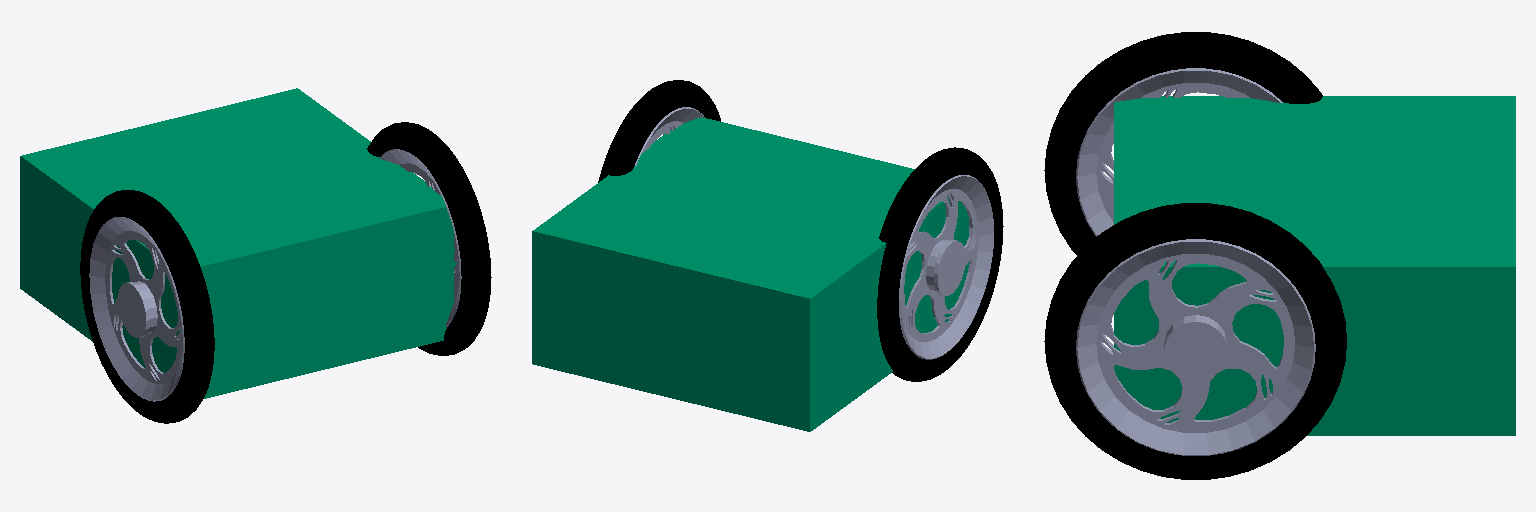
robot.urdf — Krang:
<?xml version="1.0" ?>
<!-- @file Krang.urdf -->
<!-- @author Can Erdogan -->
<!-- @date May 19, 2013 -->
<!-- @brief This file contains the .urdf definition for Krang with no dae files but only -->
<!-- bounding boxes for the dae files except the wheels (for fast loading in 05-fr). -->
<!-- TODO: Set the center of mass locations -->
<!-- TODO: Set the correct masses. Note that the dae models have the brackets divided in two and -->
<!-- connected to the middle motor for which we do not have measurements. -->
<!-- NOTE: The bounding box values are taken by finding the min and max values of the dae files. -->

<robot name="Krang">

	<!-- Links -->

	<link name = "LWheel"> 
    <inertial>
      <mass value="4.66"/>
      <inertia ixx="0.102019" ixy="2.45462e-05" ixz="0.00713022" iyy="0.0832724" iyz="-0.00131733" izz="0.086493"/>
      <origin xyz="0 0 0"/>
    </inertial>
		<visual> <geometry> <mesh filename="Base/oldwheel.dae" /> </geometry> </visual> 
		<collision> <geometry> <mesh filename="Base/oldwheel.dae" /> </geometry> </collision> 
	</link>

	<link name = "RWheel"> 
    <inertial>
      <mass value="4.66"/>
      <inertia ixx="0.102019" ixy="2.45462e-05" ixz="0.00713022" iyy="0.0832724" iyz="-0.00131733" izz="0.086493"/>
      <origin xyz="0 0 0"/>
    </inertial>
		<visual> <geometry> <mesh filename="Base/oldwheel.dae" /> </geometry> </visual> 
		<collision> <geometry> <mesh filename="Base/oldwheel.dae" /> </geometry> </collision> 
	</link>

	<link name = "Base"> 
    <inertial>
      <mass value="86.5"/>
      <inertia ixx="0.102019" ixy="2.45462e-05" ixz="0.00713022" iyy="0.0832724" iyz="-0.00131733" izz="0.086493"/>
      <origin xyz="0 0 0"/>
    </inertial>
		<visual> 
			<origin xyz="0.00225 0.2097395 0.006300"/>
      <geometry>
        <box size="0.7165 0.71048 0.32860"/>
      </geometry>
		</visual> 
		<collision> 
			<origin xyz="0.00225 0.2097395 0.006300"/>
      <geometry>
        <box size="0.7165 0.71048 0.32860"/>
      </geometry>
		</collision> 
	</link>
<!--
	<link name = "Spine"> 
    <inertial>
      <mass value="6.547"/>
      <inertia ixx="0.102019" ixy="2.45462e-05" ixz="0.00713022" iyy="0.0832724" iyz="-0.00131733" izz="0.086493"/>
      <origin xyz="0 0 0"/>
    </inertial>
		<visual> 
			<origin xyz="-0.026 0.230150 0.053887"/>
      <geometry>
        <box size="0.2340 0.59430 0.24097"/>
      </geometry>
		</visual> 
		<collision> 
			<origin xyz="-0.026 0.230150 0.053887"/>
      <geometry>
        <box size="0.2340 0.59430 0.24097"/>
      </geometry>
		</collision> 
	</link>

	<link name = "Bracket"> 
    <inertial>
      <mass value="3.11"/>
      <inertia ixx="0.102019" ixy="2.45462e-05" ixz="0.00713022" iyy="0.0832724" iyz="-0.00131733" izz="0.086493"/>
      <origin xyz="0 0 0"/>
    </inertial>
		<visual> <origin xyz="0.0012875 0.0971525 -0.0280530"/> <geometry> <box size="0.2815 0.30791 0.22611"/> </geometry> </visual> 
		<collision> <origin xyz="0.0012875 0.0971525 -0.0280530"/> <geometry> <box size="0.2815 0.30791 0.22611"/> </geometry> </collision> 
	</link>

	<link name = "L1"> 
    <inertial>
      <mass value="3.28"/>
      <inertia ixx="0.102019" ixy="2.45462e-05" ixz="0.00713022" iyy="0.0832724" iyz="-0.00131733" izz="0.086493"/>
      <origin xyz="0 0 0"/>
    </inertial>
		<visual> <origin xyz="0.015 -0.080866 0.0"/> <geometry> <box size="0.16 0.29367 0.13188"/> </geometry> </visual> 
		<collision> <origin xyz="0.015 -0.080866 0.0"/> <geometry> <box size="0.16 0.29367 0.13188"/> </geometry> </collision> 
	</link>

	<link name = "L2"> 
    <inertial>
      <mass value="3.76"/>
      <inertia ixx="0.102019" ixy="2.45462e-05" ixz="0.00713022" iyy="0.0832724" iyz="-0.00131733" izz="0.086493"/>
      <origin xyz="0 0 0"/>
    </inertial>
		<visual> <origin xyz="0.017042 -0.058309 0.0"/> <geometry> <box size="0.14591 0.24658 0.13"/> </geometry> </visual> 
		<collision> <origin xyz="0.017042 -0.058309 0.0"/> <geometry> <box size="0.14591 0.24658 0.13"/> </geometry> </collision> 
	</link>

	<link name = "L3"> 
    <inertial>
      <mass value="2.435"/>
      <inertia ixx="0.102019" ixy="2.45462e-05" ixz="0.00713022" iyy="0.0832724" iyz="-0.00131733" izz="0.086493"/>
      <origin xyz="0 0 0"/>
    </inertial>
		<visual> <origin xyz="0.014000 -0.075113 0.0"/> <geometry> <box size="0.13800 0.26217 0.11189"/> </geometry> </visual> 
		<collision> <origin xyz="0.014000 -0.075113 0.0"/> <geometry> <box size="0.13800 0.26217 0.11189"/> </geometry> </collision> 
	</link>

	<link name = "L4"> 
    <inertial>
      <mass value="2.356"/>
      <inertia ixx="0.102019" ixy="2.45462e-05" ixz="0.00713022" iyy="0.0832724" iyz="-0.00131733" izz="0.086493"/>
      <origin xyz="0 0 0"/>
    </inertial>
		<visual> <origin xyz="0.018200 -0.052050 0.0"/> <geometry> <box size="0.12960 0.2141 0.11"/> </geometry> </visual> 
		<collision> <origin xyz="0.018200 -0.052050 0.0"/> <geometry> <box size="0.12960 0.2141 0.11"/> </geometry> </collision> 
	</link>

	<link name = "L5"> 
    <inertial>
      <mass value="1.517"/>
      <inertia ixx="0.102019" ixy="2.45462e-05" ixz="0.00713022" iyy="0.0832724" iyz="-0.00131733" izz="0.086493"/>
      <origin xyz="0 0 0"/>
    </inertial>
		<visual> <origin xyz="0.0145115 -0.0571105 0.0000425"/> <geometry> <box size="0.117977 0.204179 0.089915"/> </geometry> </visual> 
		<collision> <origin xyz="0.0145115 -0.0571105 0.0000425"/> <geometry> <box size="0.117977 0.204179 0.089915"/> </geometry> </collision> 
	</link>

	<link name = "L6"> 
    <inertial>
      <mass value="1.428"/>
      <inertia ixx="0.102019" ixy="2.45462e-05" ixz="0.00713022" iyy="0.0832724" iyz="-0.00131733" izz="0.086493"/>
      <origin xyz="0 0 0"/>
    </inertial>
		<visual> <origin xyz="0.0175015 -0.0481615 0.0"/> <geometry> <box size="0.111977 0.185277 0.089"/> </geometry> </visual> 
		<collision> <origin xyz="0.0175015 -0.0481615 0.0"/> <geometry> <box size="0.111977 0.185277 0.089"/> </geometry> </collision> 
	</link>

	<link name = "LFT"> 
    <inertial>
      <mass value="1.206"/>
      <inertia ixx="0.102019" ixy="2.45462e-05" ixz="0.00713022" iyy="0.0832724" iyz="-0.00131733" izz="0.086493"/>
      <origin xyz="0 0 0"/>
    </inertial>
		<visual> <origin xyz="0.0 0.0111 0.0"/> <geometry> <box size="0.075 0.0462 0.075"/> </geometry> </visual> 
		<collision> <origin xyz="0.0 0.0111 0.0"/> <geometry> <box size="0.075 0.0462 0.075"/> </geometry> </collision> 
	</link>

	<link name = "lGripper">
		<visual> <origin xyz="0.0 0.0 0.0"/> <geometry> <box size="0.0616 0.0555 0.044"/> </geometry> </visual> 
		<collision> <origin xyz="0.0 0.0 0.0"/> <geometry> <box size="0.0616 0.0555 0.044"/> </geometry> </collision> 
	</link> 	

	<link name = "lgPlate1">
		<visual> <geometry> <mesh filename="Schunk/gripperPlate.dae" /> </geometry> </visual>
		<collision> <geometry> <mesh filename="Schunk/gripperPlate.dae" /> </geometry> </collision>
	</link> 	

	<link name = "R1"> 
    <inertial>
      <mass value="3.28"/>
      <inertia ixx="0.102019" ixy="2.45462e-05" ixz="0.00713022" iyy="0.0832724" iyz="-0.00131733" izz="0.086493"/>
      <origin xyz="0 0 0"/>
    </inertial>
		<visual> <origin xyz="0.015 -0.080866 0.0"/> <geometry> <box size="0.16 0.29367 0.13188"/> </geometry> </visual> 
		<collision> <origin xyz="0.015 -0.080866 0.0"/> <geometry> <box size="0.16 0.29367 0.13188"/> </geometry> </collision> 
	</link>

	<link name = "R2"> 
    <inertial>
      <mass value="3.76"/>
      <inertia ixx="0.102019" ixy="2.45462e-05" ixz="0.00713022" iyy="0.0832724" iyz="-0.00131733" izz="0.086493"/>
      <origin xyz="0 0 0"/>
    </inertial>
		<visual> <origin xyz="0.017042 -0.058309 0.0"/> <geometry> <box size="0.14591 0.24658 0.13"/> </geometry> </visual> 
		<collision> <origin xyz="0.017042 -0.058309 0.0"/> <geometry> <box size="0.14591 0.24658 0.13"/> </geometry> </collision> 
	</link>

	<link name = "R3"> 
    <inertial>
      <mass value="2.435"/>
      <inertia ixx="0.102019" ixy="2.45462e-05" ixz="0.00713022" iyy="0.0832724" iyz="-0.00131733" izz="0.086493"/>
      <origin xyz="0 0 0"/>
    </inertial>
		<visual> <origin xyz="0.014000 -0.075113 0.0"/> <geometry> <box size="0.13800 0.26217 0.11189"/> </geometry> </visual> 
		<collision> <origin xyz="0.014000 -0.075113 0.0"/> <geometry> <box size="0.13800 0.26217 0.11189"/> </geometry> </collision> 
	</link>

	<link name = "R4"> 
    <inertial>
      <mass value="2.356"/>
      <inertia ixx="0.102019" ixy="2.45462e-05" ixz="0.00713022" iyy="0.0832724" iyz="-0.00131733" izz="0.086493"/>
      <origin xyz="0 0 0"/>
    </inertial>
		<visual> <origin xyz="0.018200 -0.052050 0.0"/> <geometry> <box size="0.12960 0.2141 0.11"/> </geometry> </visual> 
		<collision> <origin xyz="0.018200 -0.052050 0.0"/> <geometry> <box size="0.12960 0.2141 0.11"/> </geometry> </collision> 
	</link>

	<link name = "R5"> 
    <inertial>
      <mass value="1.517"/>
      <inertia ixx="0.102019" ixy="2.45462e-05" ixz="0.00713022" iyy="0.0832724" iyz="-0.00131733" izz="0.086493"/>
      <origin xyz="0 0 0"/>
    </inertial>
		<visual> <origin xyz="0.0145115 -0.0571105 0.0000425"/> <geometry> <box size="0.117977 0.204179 0.089915"/> </geometry> </visual> 
		<collision> <origin xyz="0.0145115 -0.0571105 0.0000425"/> <geometry> <box size="0.117977 0.204179 0.089915"/> </geometry> </collision> 
	</link>

	<link name = "R6"> 
    <inertial>
      <mass value="1.428"/>
      <inertia ixx="0.102019" ixy="2.45462e-05" ixz="0.00713022" iyy="0.0832724" iyz="-0.00131733" izz="0.086493"/>
      <origin xyz="0 0 0"/>
    </inertial>
		<visual> <origin xyz="0.0175015 -0.0481615 0.0"/> <geometry> <box size="0.111977 0.185277 0.089"/> </geometry> </visual> 
		<collision> <origin xyz="0.0175015 -0.0481615 0.0"/> <geometry> <box size="0.111977 0.185277 0.089"/> </geometry> </collision> 
	</link>

	<link name = "RFT"> 
    <inertial>
      <mass value="1.206"/>
      <inertia ixx="0.102019" ixy="2.45462e-05" ixz="0.00713022" iyy="0.0832724" iyz="-0.00131733" izz="0.086493"/>
      <origin xyz="0 0 0"/>
    </inertial>
		<visual> <origin xyz="0.0 0.0111 0.0"/> <geometry> <box size="0.075 0.0462 0.075"/> </geometry> </visual> 
		<collision> <origin xyz="0.0 0.0111 0.0"/> <geometry> <box size="0.075 0.0462 0.075"/> </geometry> </collision> 
	</link>

	<link name = "rGripper">
		<visual> <origin xyz="0.0 0.0 0.0"/> <geometry> <box size="0.0616 0.0555 0.044"/> </geometry> </visual> 
		<collision> <origin xyz="0.0 0.0 0.0"/> <geometry> <box size="0.0616 0.0555 0.044"/> </geometry> </collision> 
	</link> 	


	<link name = "rgPlate1">
		<visual> <geometry> <mesh filename="Schunk/gripperPlate.dae" /> </geometry> </visual>
		<collision> <geometry> <mesh filename="Schunk/gripperPlate.dae" /> </geometry> </collision>
	</link> 	
-->
	<!-- ======================================================================================================== -->
	<!-- ============================================ Joints ==================================================== -->
	<!-- ======================================================================================================== -->

	<joint name="JLWheel" type="revolute"> <parent link="Base" /> <child link="LWheel" />
		<origin xyz = "-0.354 0.0 0" rpy="0 0 0" />
		<axis xyz="1 0 0" /> <limit effort="1000" lower="-3.1416" upper="3.1416" velocity="0.1" />
	</joint>

	<joint name="JRWheel" type="revolute"> <parent link="Base" /> <child link="RWheel" />
		<origin xyz = "0.361 0.0 0" rpy="0 0 0" />
		<axis xyz="1 0 0" /> <limit effort="1000" lower="-3.1416" upper="3.1416" velocity="0.1" />
	</joint>
<!--
	<joint name="JWaist" type="revolute"> <parent link="Base" /> <child link="Spine" />
		<origin xyz = "0.026 0.499 -0.091" rpy="0 0 0" />
		<axis xyz="-1 0 0" /> <limit effort="1000" lower="0" upper="2.3" velocity="0.1" />
	</joint>

	<joint name="JTorso" type="revolute"> <parent link="Spine" /> <child link="Bracket" />
		<origin xyz = "-0.0285 0.584 0.1088" rpy="0 3.1416 0" />
		<axis xyz="0 -1 0" /> <limit effort="1000" lower="-0.8" upper="0.8" velocity="0.1" />
	</joint>

	<joint name="LJ1" type="revolute"> <parent link="Bracket" /> <child link="L1" />
		<origin xyz = "0.2823 0.0845 0" rpy="0 3.1416 -1.5708" />
		<axis xyz="0 -1 0" /> <limit effort="1000" lower="-3.1416" upper="3.1416" velocity="0.1" />
	</joint>

	<joint name="LJ2" type="revolute"> <parent link="L1" /> <child link="L2" />
		<origin xyz="0 0.0 0" rpy="3.14 3.14 0" />
		<axis xyz="-1 0 0" /> <limit effort="1000" lower="-2.094" upper="2.094" velocity="0.1" />
	</joint>

	<joint name="LJ3" type="revolute"> <parent link="L2" /> <child link="L3" />
		<origin xyz="0 -0.328 0" rpy="-3.1416 -3.1416 0" />
		<axis xyz="0 -1 0" /> <limit effort="1000" lower="-3.1416" upper="3.1416" velocity="0.1" />
	</joint>

	<joint name="LJ4" type="revolute"> <parent link="L3" /> <child link="L4" />
		<origin xyz="0 0 0" rpy="3.1416 3.1416 0" />
		<axis xyz="-1 0 0" /> <limit effort="1000" lower="-2.094" upper="2.094" velocity="0.1" />
	</joint>

	<joint name="LJ5" type="revolute"> <parent link="L4" /> <child link="L5" />
		<origin xyz="0 -0.2765 0" rpy="3.1416 3.1416 0" />
		<axis xyz="0 -1 0" /> <limit effort="1000" lower="-3.1416" upper="3.1416" velocity="0.1" />
	</joint>

	<joint name="LJ6" type="revolute"> <parent link="L5" /> <child link="L6" />
		<origin xyz="0 0 0" rpy="3.1416 3.1416 0" />
		<axis xyz="-1 0 0" /> <limit effort="1000" lower="-2.094" upper="2.094" velocity="0.1" />
	</joint>
-->
	<!-- For some reason, I had to negate the axis to make sure the motor turns like the others -->
<!--
	<joint name="LJFT" type="revolute"> <parent link="L6" /> <child link="LFT" />
		<origin xyz="0 -0.159 0" rpy="0 0 0" />
		<axis xyz="0 1 0" /> <limit effort="1000" lower="-3.1416" upper="3.1416" velocity="0.1" />
	</joint>

	<joint name="LMotorGripper" type="fixed"> <parent link="LFT" /> <child link="lGripper" />
		<origin xyz="0.0 -0.035 0" rpy="3.1416 0 0" />
		<axis xyz="1 0 0" /> <limit effort="1000" lower="-2.094" upper="2.094" velocity="0.1" />
	</joint>

	<joint name="LMotorPlate1" type="revolute"> <parent link="lGripper" /> <child link="lgPlate1" />
		<origin xyz="-0.025 0.068 0.0" rpy="1.57 0.0 0" />
		<axis xyz="0 -1 0" /> <limit effort="1000" lower="0.0" upper="1.57" velocity="0.1" />
	</joint>
-->
	<!-- Right arm -->
<!--
	<joint name="RJ1" type="revolute"> <parent link="Bracket" /> <child link="R1" />
		<origin xyz = "-0.2823 0.0845 0" rpy="0 0 1.5708" />
		<axis xyz="0 -1 0" /> <limit effort="1000" lower="-3.1416" upper="3.1416" velocity="0.1" />
	</joint>

	<joint name="RJ2" type="revolute"> <parent link="R1" /> <child link="R2" />
		<origin xyz="0 0.0 0" rpy="3.14 3.14 0" />
		<axis xyz="-1 0 0" /> <limit effort="1000" lower="-2.094" upper="2.094" velocity="0.1" />
	</joint>

	<joint name="RJ3" type="revolute"> <parent link="R2" /> <child link="R3" />
		<origin xyz="0 -0.328 0" rpy="-3.1416 -3.1416 0" />
		<axis xyz="0 -1 0" /> <limit effort="1000" lower="-3.1416" upper="3.1416" velocity="0.1" />
	</joint>

	<joint name="RJ4" type="revolute"> <parent link="R3" /> <child link="R4" />
		<origin xyz="0 0 0" rpy="3.1416 3.1416 0" />
		<axis xyz="-1 0 0" /> <limit effort="1000" lower="-2.094" upper="2.094" velocity="0.1" />
	</joint>

	<joint name="RJ5" type="revolute"> <parent link="R4" /> <child link="R5" />
		<origin xyz="0 -0.2765 0" rpy="3.1416 3.1416 0" />
		<axis xyz="0 -1 0" /> <limit effort="1000" lower="-3.1416" upper="3.1416" velocity="0.1" />
	</joint>

	<joint name="RJ6" type="revolute"> <parent link="R5" /> <child link="R6" />
		<origin xyz="0 0 0" rpy="3.1416 3.1416 0" />
		<axis xyz="-1 0 0" /> <limit effort="1000" lower="-2.094" upper="2.094" velocity="0.1" />
	</joint>

	<joint name="RJFT" type="revolute"> <parent link="R6" /> <child link="RFT" />
		<origin xyz="0 -0.159 0" rpy="0 0 0" />
		<axis xyz="0 1 0" /> <limit effort="1000" lower="-3.1416" upper="3.1416" velocity="0.1" />
	</joint>

	<joint name="RMotorGripper" type="fixed"> <parent link="RFT" /> <child link="rGripper" />
		<origin xyz="0 -0.035 0" rpy="3.1416 0 0" />
		<axis xyz="1 0 0" /> <limit effort="1000" lower="-2.094" upper="2.094" velocity="0.1" />
	</joint>

	<joint name="RMotorPlate1" type="revolute"> <parent link="rGripper" /> <child link="rgPlate1" />
		<origin xyz="-0.025 0.068 0.0" rpy="1.57 0.0 0" />
		<axis xyz="0 -1 0" /> <limit effort="1000" lower="0.0" upper="1.57" velocity="0.1" />
	</joint>
-->
</robot>

--- Facts derived from the render (not from the file) ---
The picture shows the robot from 3 angles, left to right: view 1: azimuth 30°, elevation 25°; view 2: azimuth 150°, elevation 25°; view 3: azimuth 270°, elevation 25°; orthographic projection.
Robot: Krang — 3 links, 2 joints (2 revolute); root link Base; default pose: all joints at 0.
Links seen in each view (by area): view 1: Base, LWheel, RWheel; view 2: Base, LWheel, RWheel; view 3: Base, RWheel, LWheel.
Link boxes in pixels (left/top/right/bottom): Base: left=20, top=88, right=456, bottom=398; LWheel: left=80, top=190, right=214, bottom=423; RWheel: left=367, top=122, right=491, bottom=355; Base: left=532, top=117, right=968, bottom=431; LWheel: left=877, top=147, right=1003, bottom=381; RWheel: left=598, top=80, right=720, bottom=182; Base: left=1114, top=96, right=1515, bottom=435; RWheel: left=1044, top=203, right=1346, bottom=479; LWheel: left=1044, top=32, right=1322, bottom=254.
Size in the robot's own frame: 0.7915 by 0.8325 by 0.5335 metres.
Meshes: 1 distinct files referenced, 2 mesh visuals loaded (1 Collada DAE).
